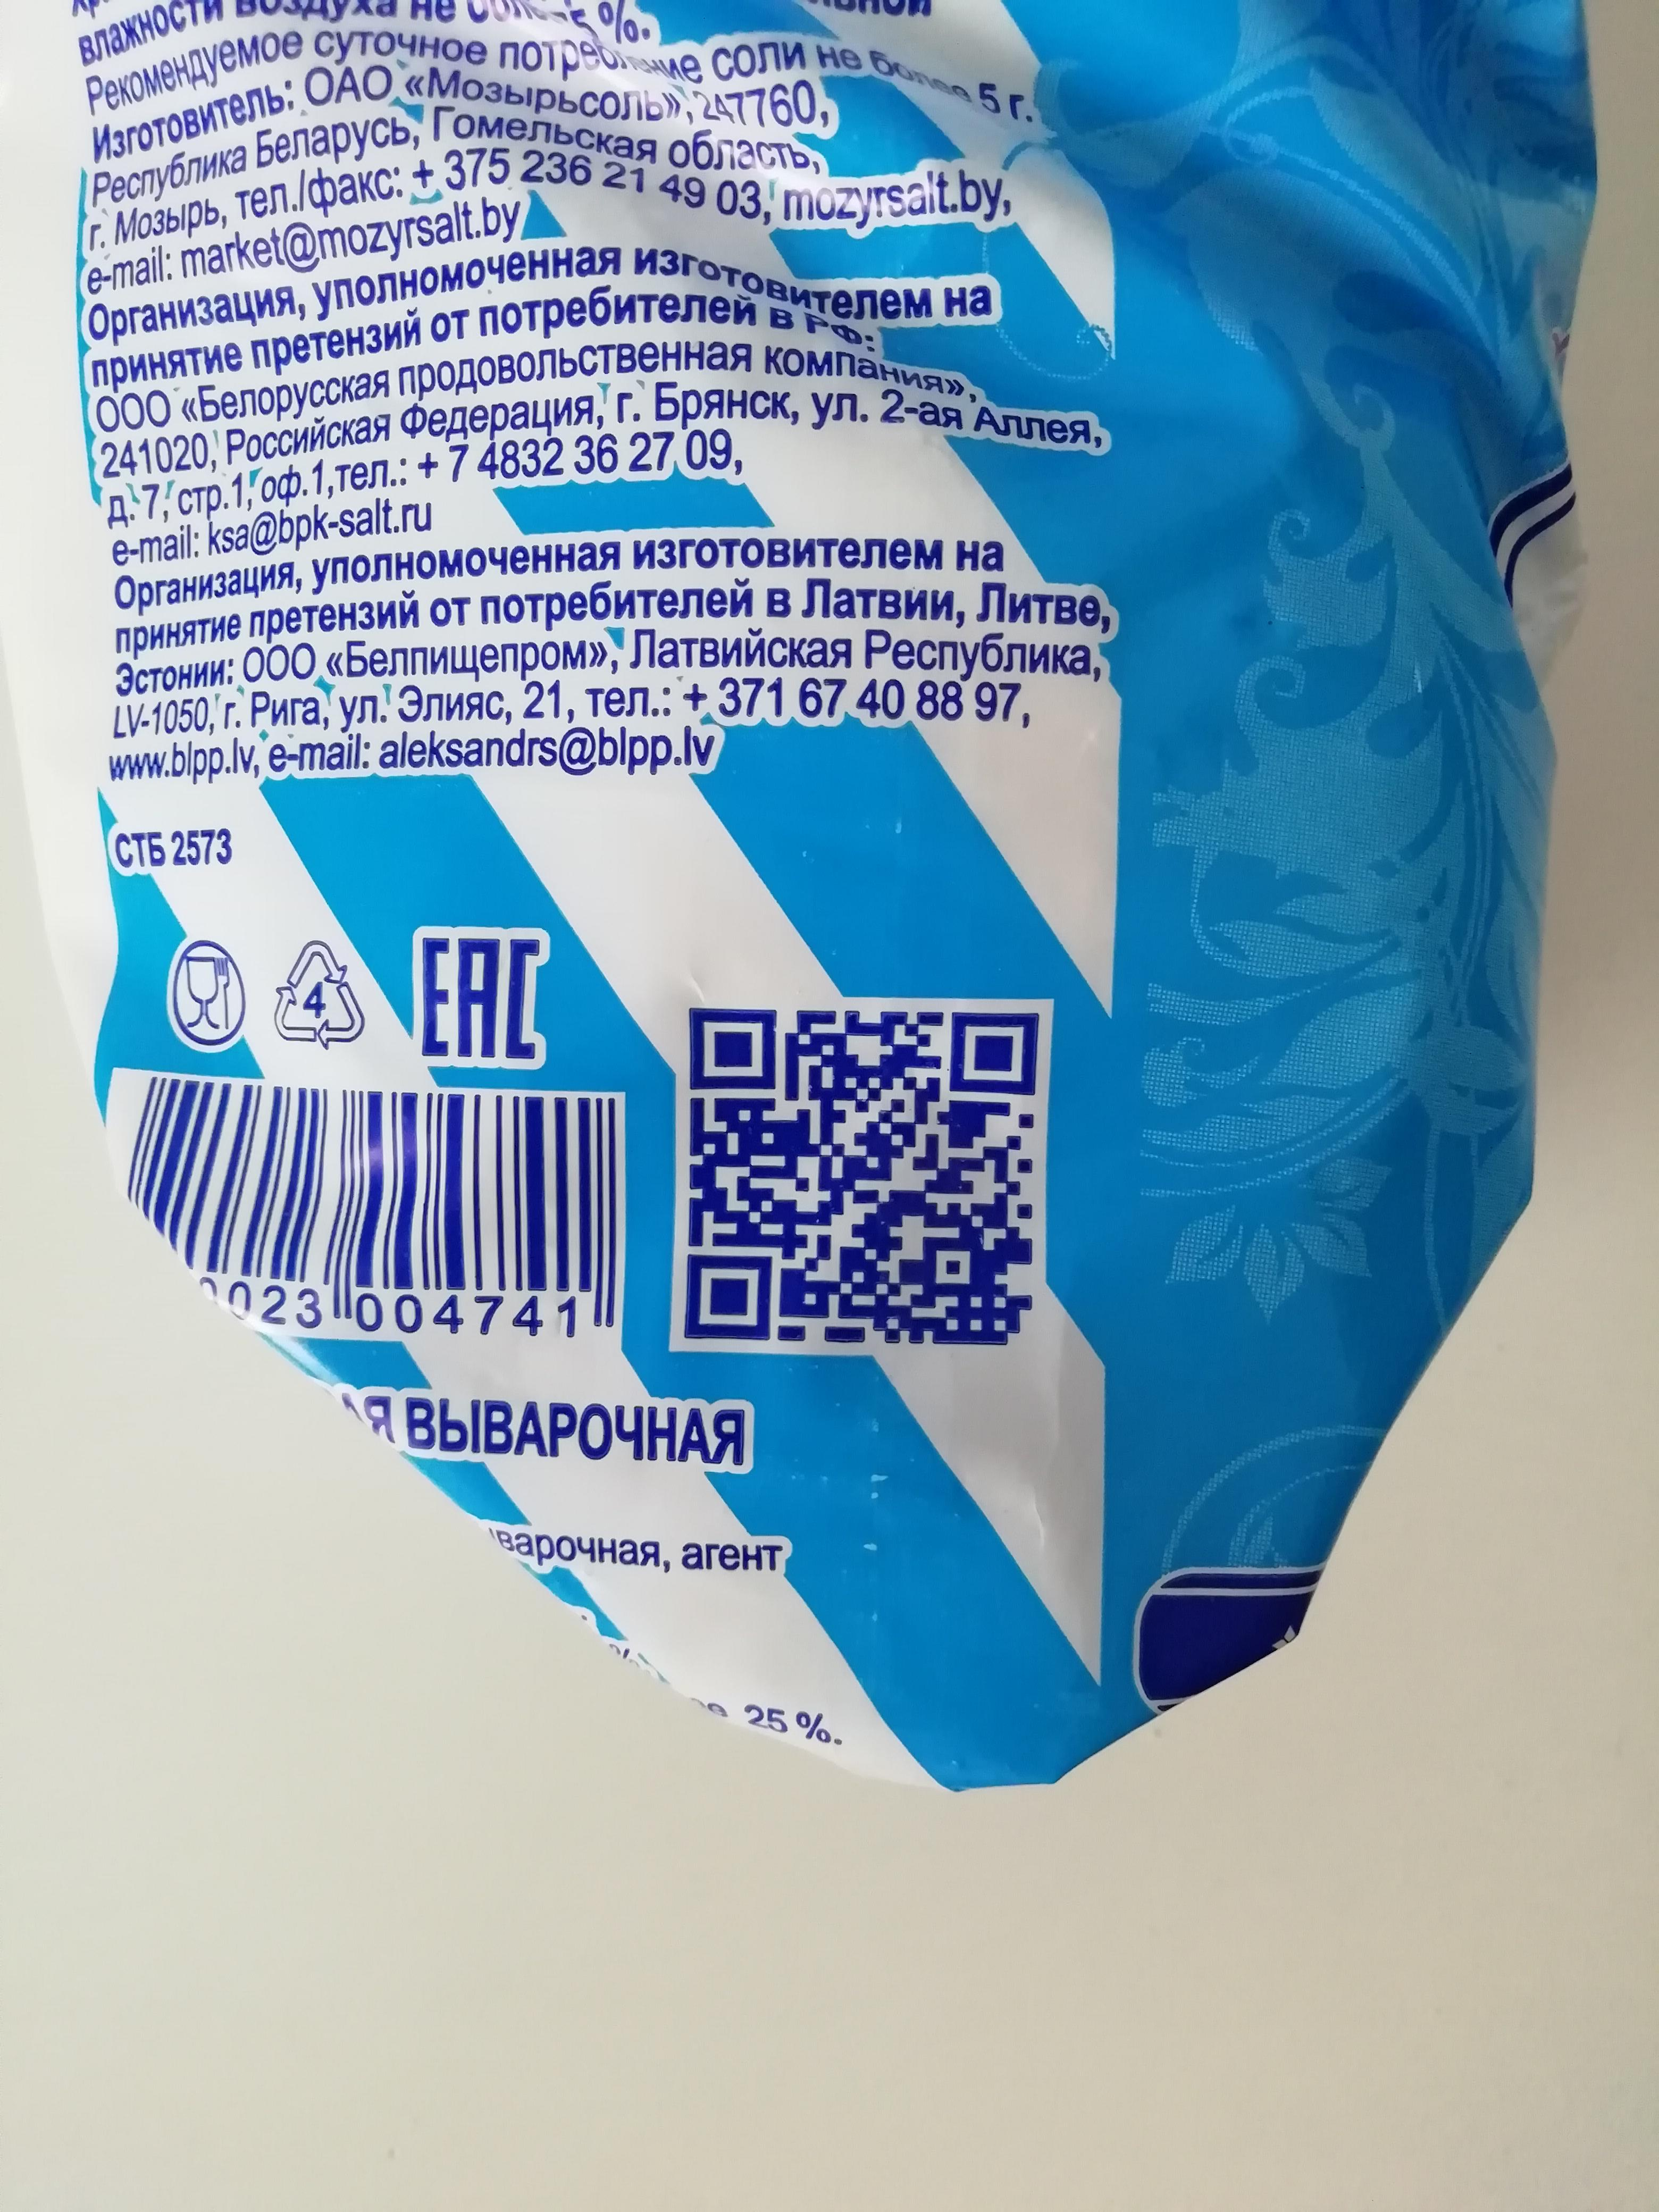qrcode: (681, 1005, 1037, 1348)
